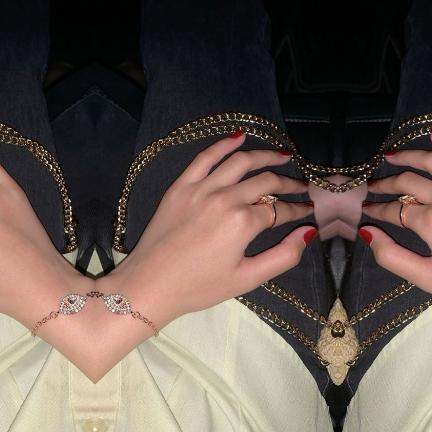Nail: (302, 229, 318, 246), (357, 229, 373, 246), (228, 129, 243, 139), (277, 150, 289, 158), (386, 150, 398, 158), (301, 202, 314, 208), (361, 202, 373, 208), (366, 181, 375, 188), (300, 181, 308, 188), (431, 132, 432, 135)
